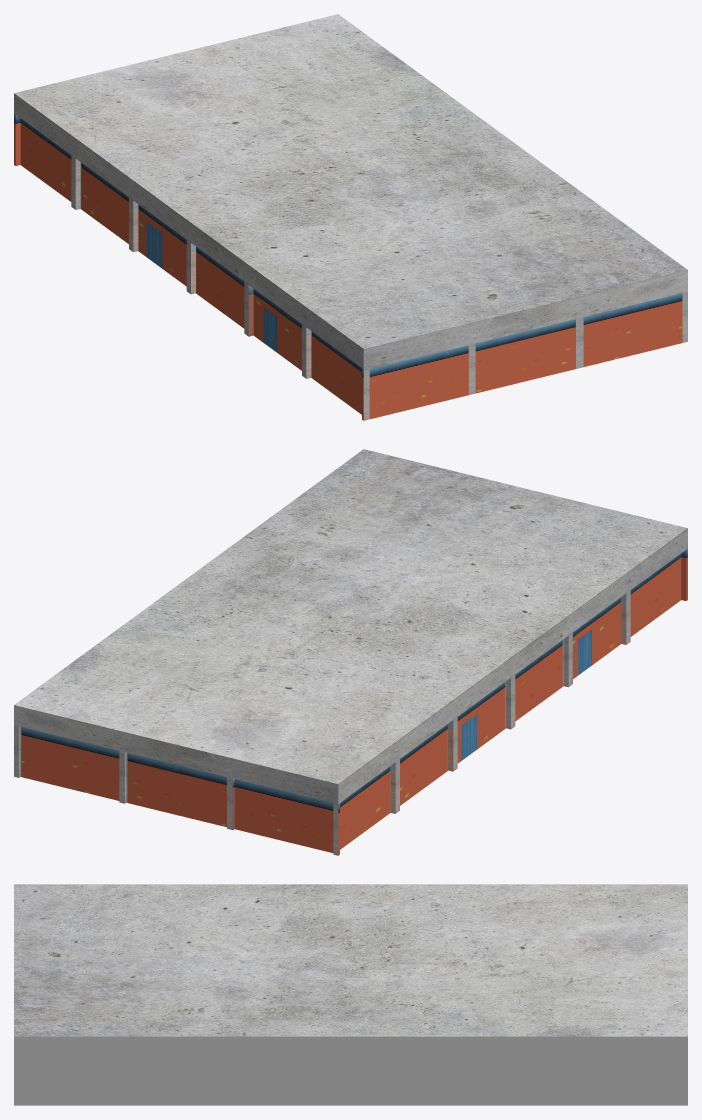
File: edif-14.0.fbx
3 views of the same model, one above another, from view 1: azimuth 30°, elevation 25°; view 2: azimuth 150°, elevation 25°; view 3: azimuth 270°, elevation 25° (orthographic). The views are drawn at different scales.
Parts seen in each view (by area): view 1: polySurface147; view 2: polySurface147; view 3: polySurface147.
Boxes of the visible parts, x1,y1,x2,y2 form: polySurface147: (14, 14, 687, 420); polySurface147: (14, 449, 687, 855); polySurface147: (14, 884, 687, 1105).
Size of the model in its own units: 236 by 49.86 by 441.
Materials: 1 (1 with a texture image).
